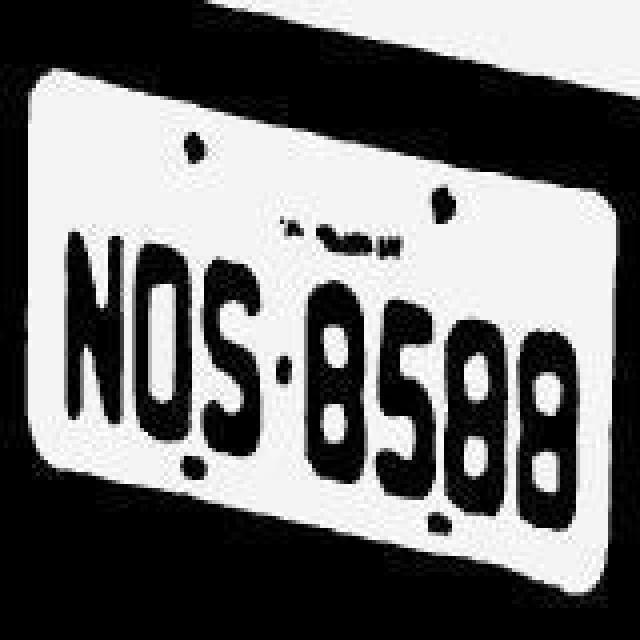5: (366, 270, 442, 514)
8: (512, 290, 592, 550), (296, 266, 376, 510), (438, 288, 514, 520)
N: (46, 206, 130, 450)
O: (124, 228, 196, 452)
S: (194, 242, 278, 462)
